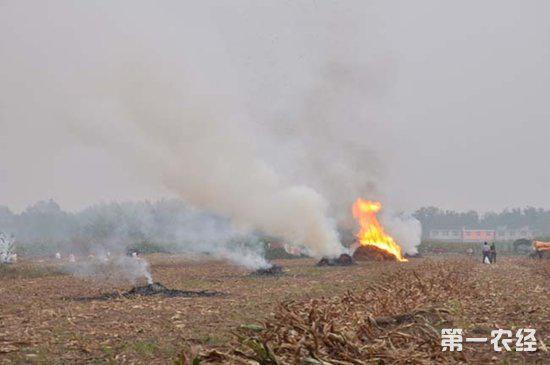fire: (345, 191, 410, 263)
